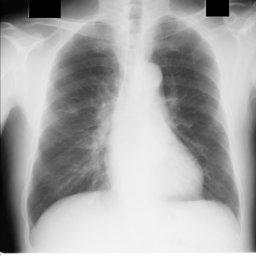left lobe: (152, 17, 239, 216)
right lobe: (28, 22, 120, 224)
trachea: (130, 0, 142, 34)
